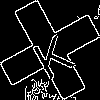K: (25, 25, 77, 81)
